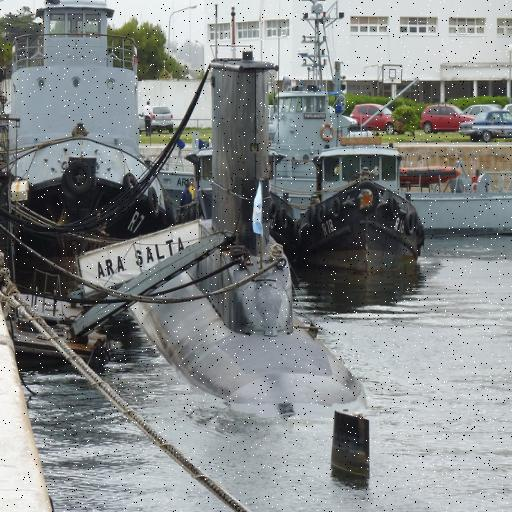submarine: (127, 26, 373, 484)
